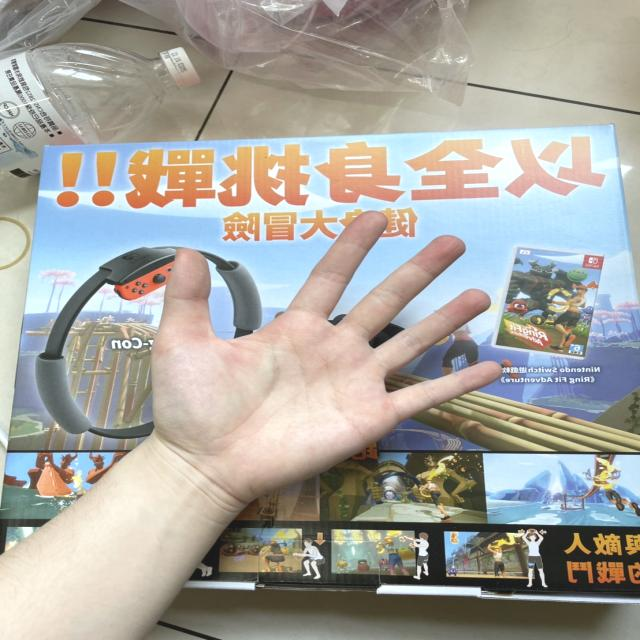no_glove: (137, 196, 512, 514)
